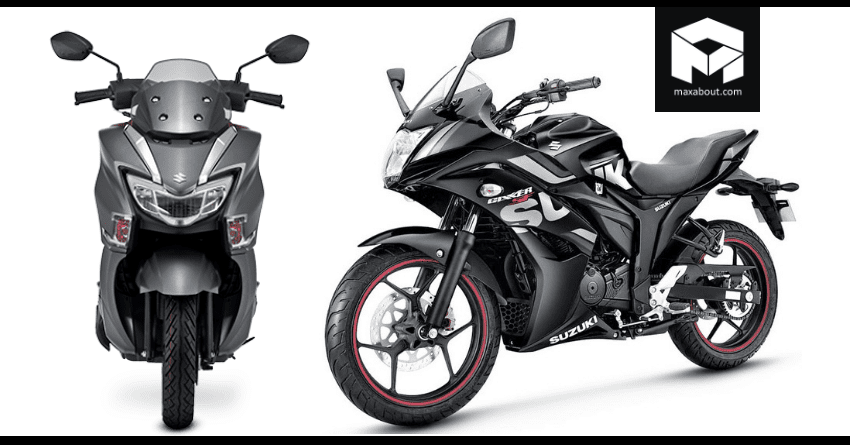Bike: (343, 71, 787, 399), (62, 71, 287, 433)
